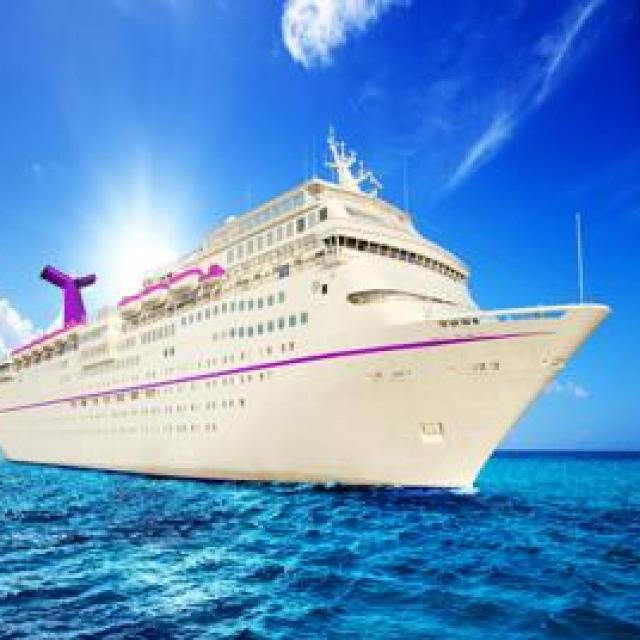passenger ship: (0, 124, 612, 487)
